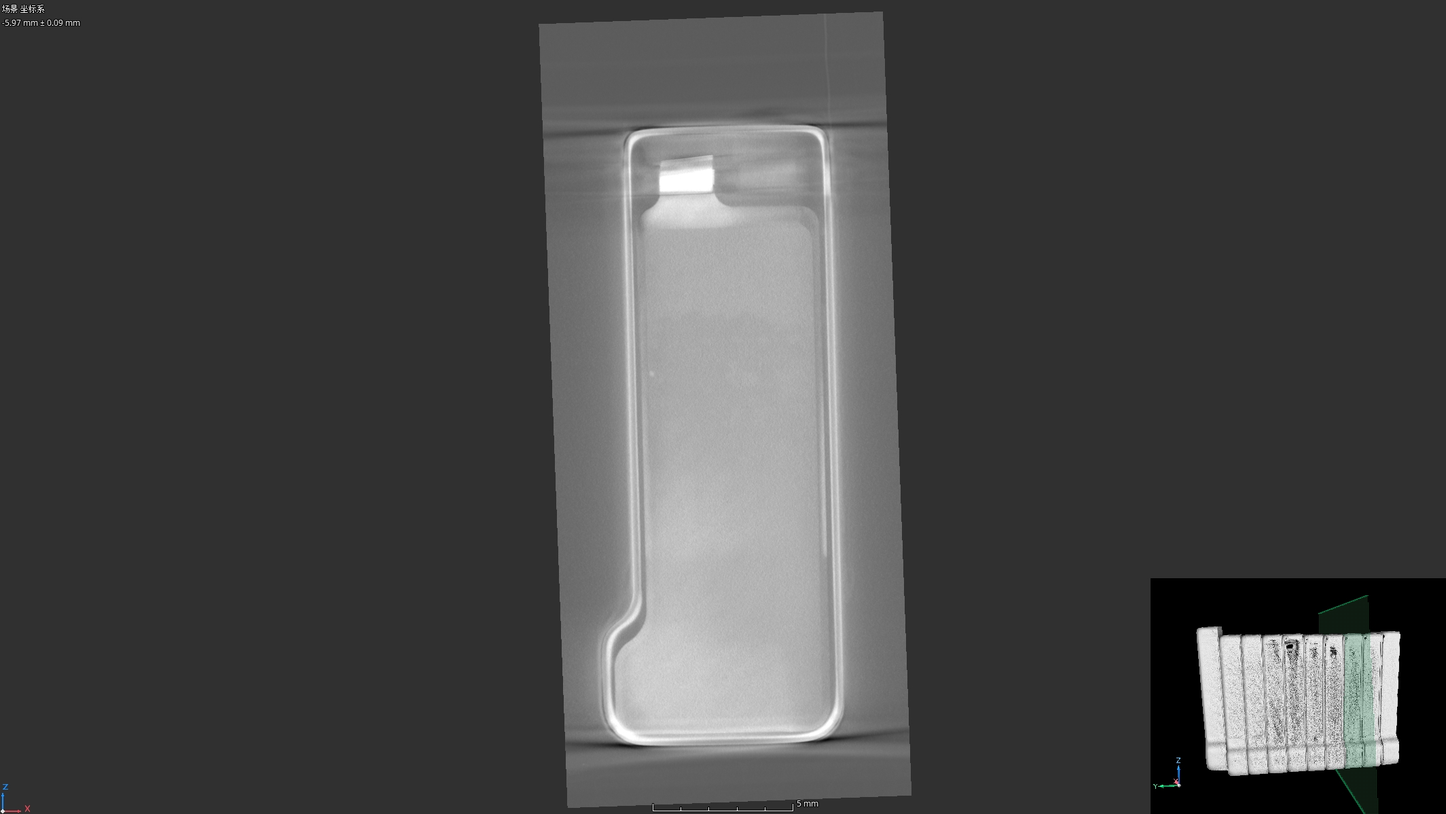light: (649, 371, 655, 377)
